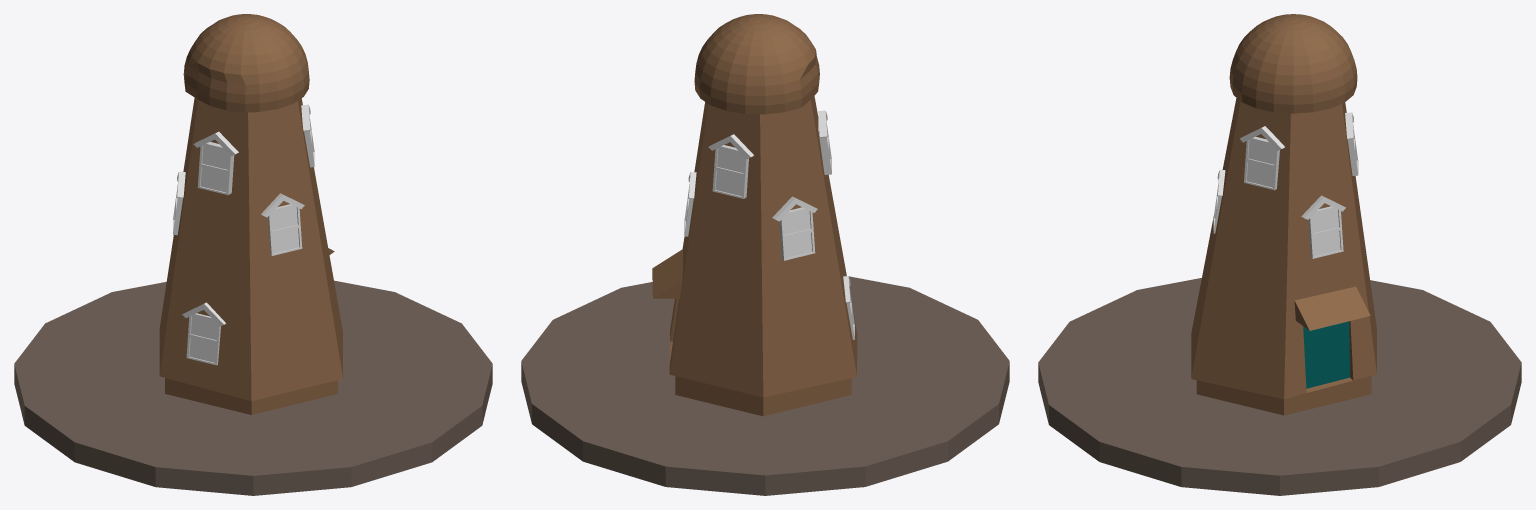
The model's file is 풍차 통ver.fbx.
The picture shows the model from 3 angles, left to right: view 1: azimuth 30°, elevation 25°; view 2: azimuth 150°, elevation 25°; view 3: azimuth 270°, elevation 25°; orthographic projection. The views are drawn at different scales.
Visible parts, largest first — view 1: polySurface249; view 2: polySurface249; view 3: polySurface249.
Part boxes in pixels (left/top/right/bottom): polySurface249: left=14, top=14, right=492, bottom=495; polySurface249: left=521, top=14, right=1009, bottom=495; polySurface249: left=1038, top=14, right=1521, bottom=495.
Bounding box in the file's own units: 8.4 × 7.2 × 8.45.
